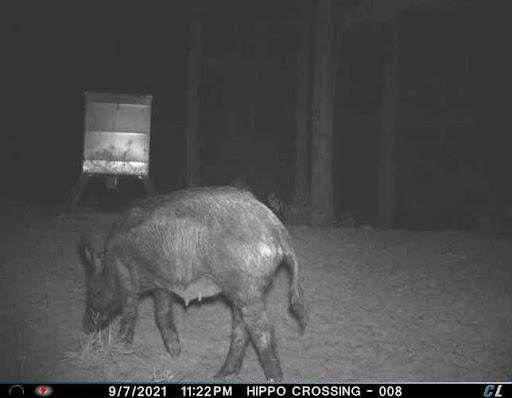Hog: (72, 192, 304, 369)
